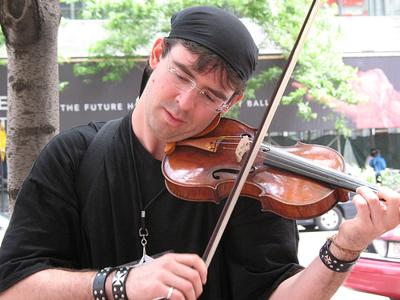person: (2, 6, 400, 300)
